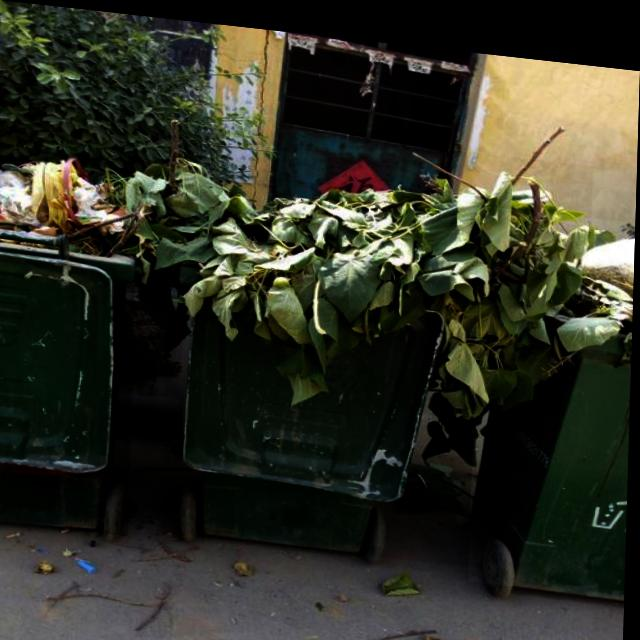overflow: (164, 115, 594, 565), (472, 195, 635, 584), (0, 146, 140, 533)
